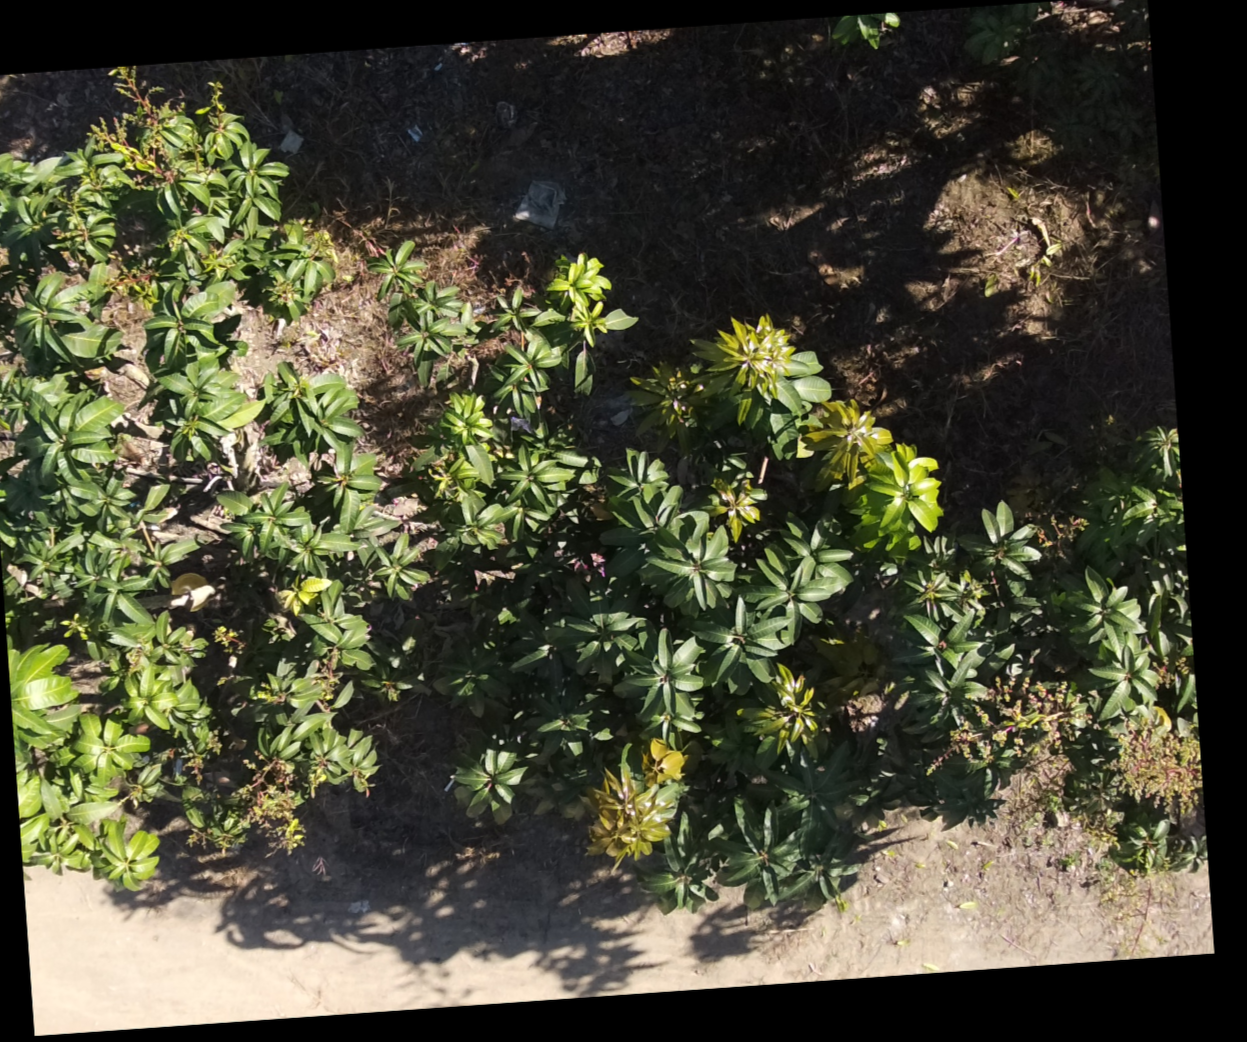flowers: (947, 675, 1089, 766), (1111, 717, 1200, 818), (237, 758, 303, 852), (924, 720, 990, 771), (314, 647, 341, 704), (547, 34, 602, 55)
